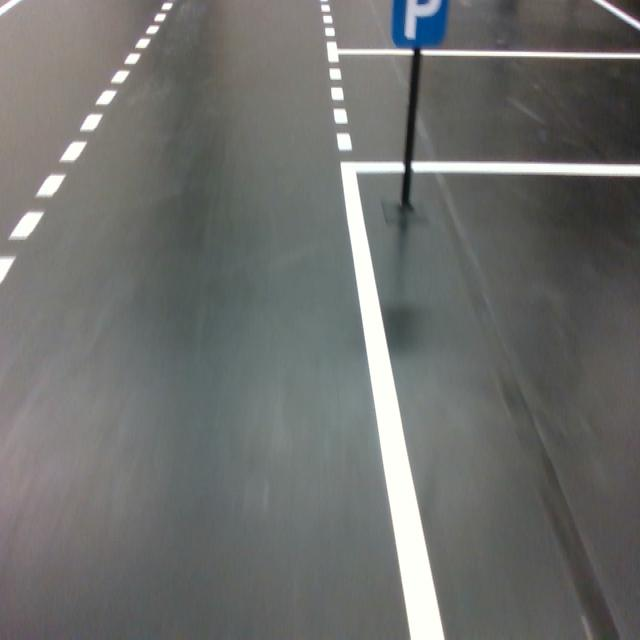parking-sign: (390, 0, 451, 50)
